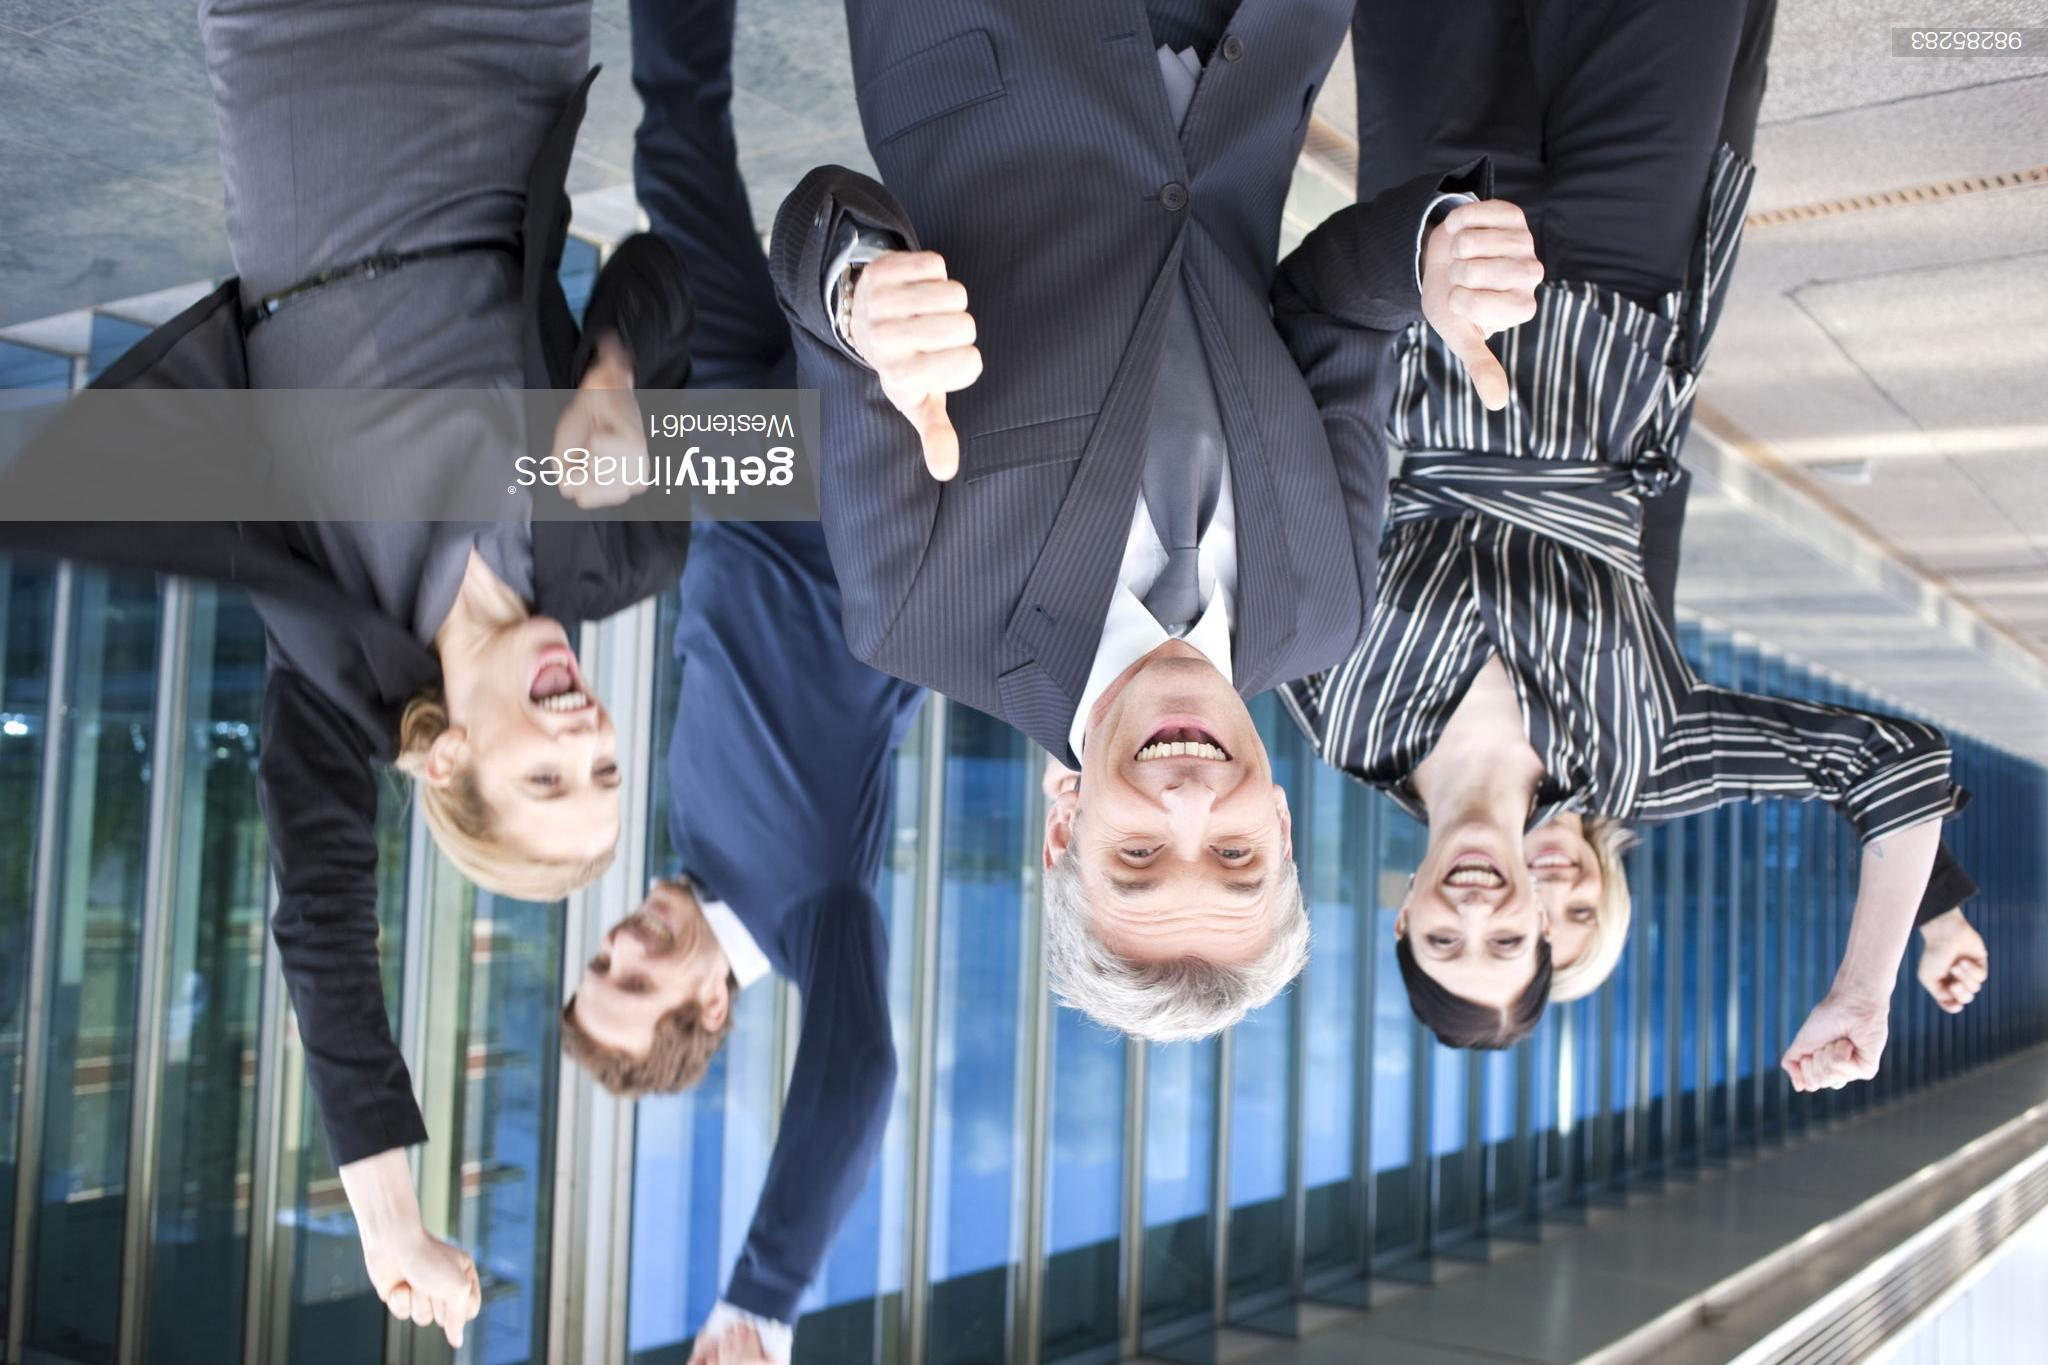thumbsdown: (862, 251, 984, 481), (1443, 200, 1546, 411)
